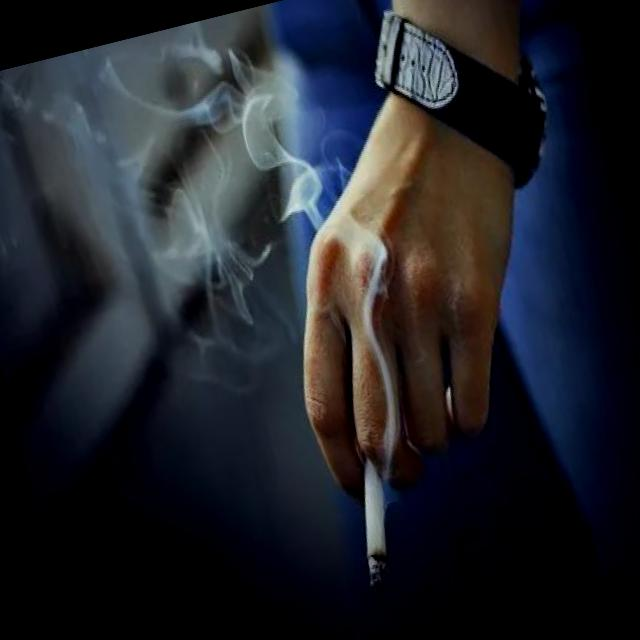cigarette: (334, 440, 414, 602)
